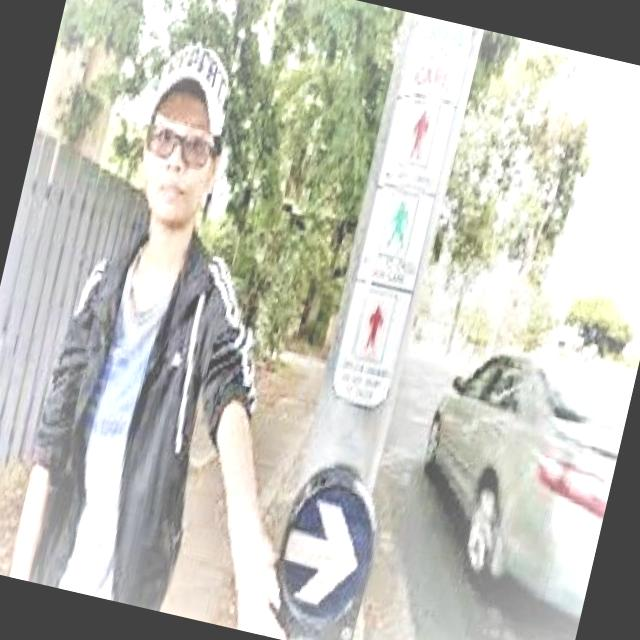Person: (0, 25, 409, 638)
